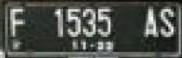1: (50, 6, 66, 38)
3: (82, 7, 96, 38)
5: (66, 8, 82, 38), (96, 8, 112, 37)
A: (142, 5, 158, 38)
F: (8, 6, 28, 38)
S: (158, 7, 176, 38)
